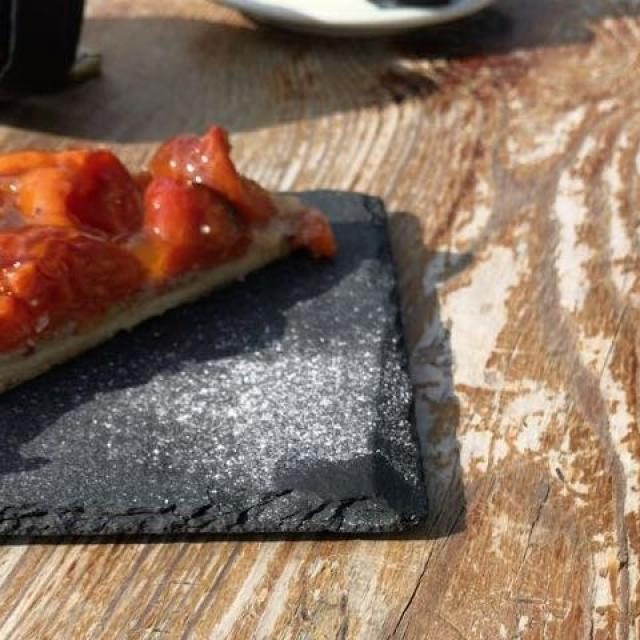pie: (1, 131, 329, 379)
